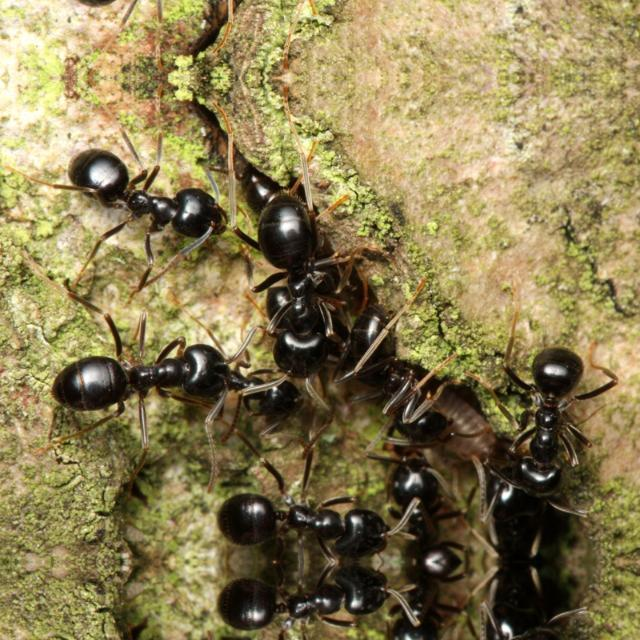Lasius: (238, 156, 368, 400), (489, 315, 625, 493), (44, 314, 246, 432), (55, 122, 239, 244), (337, 292, 451, 454), (229, 461, 401, 561), (454, 458, 600, 562), (229, 562, 401, 640), (372, 449, 476, 561), (454, 560, 598, 640), (370, 562, 476, 640), (55, 0, 239, 32)
